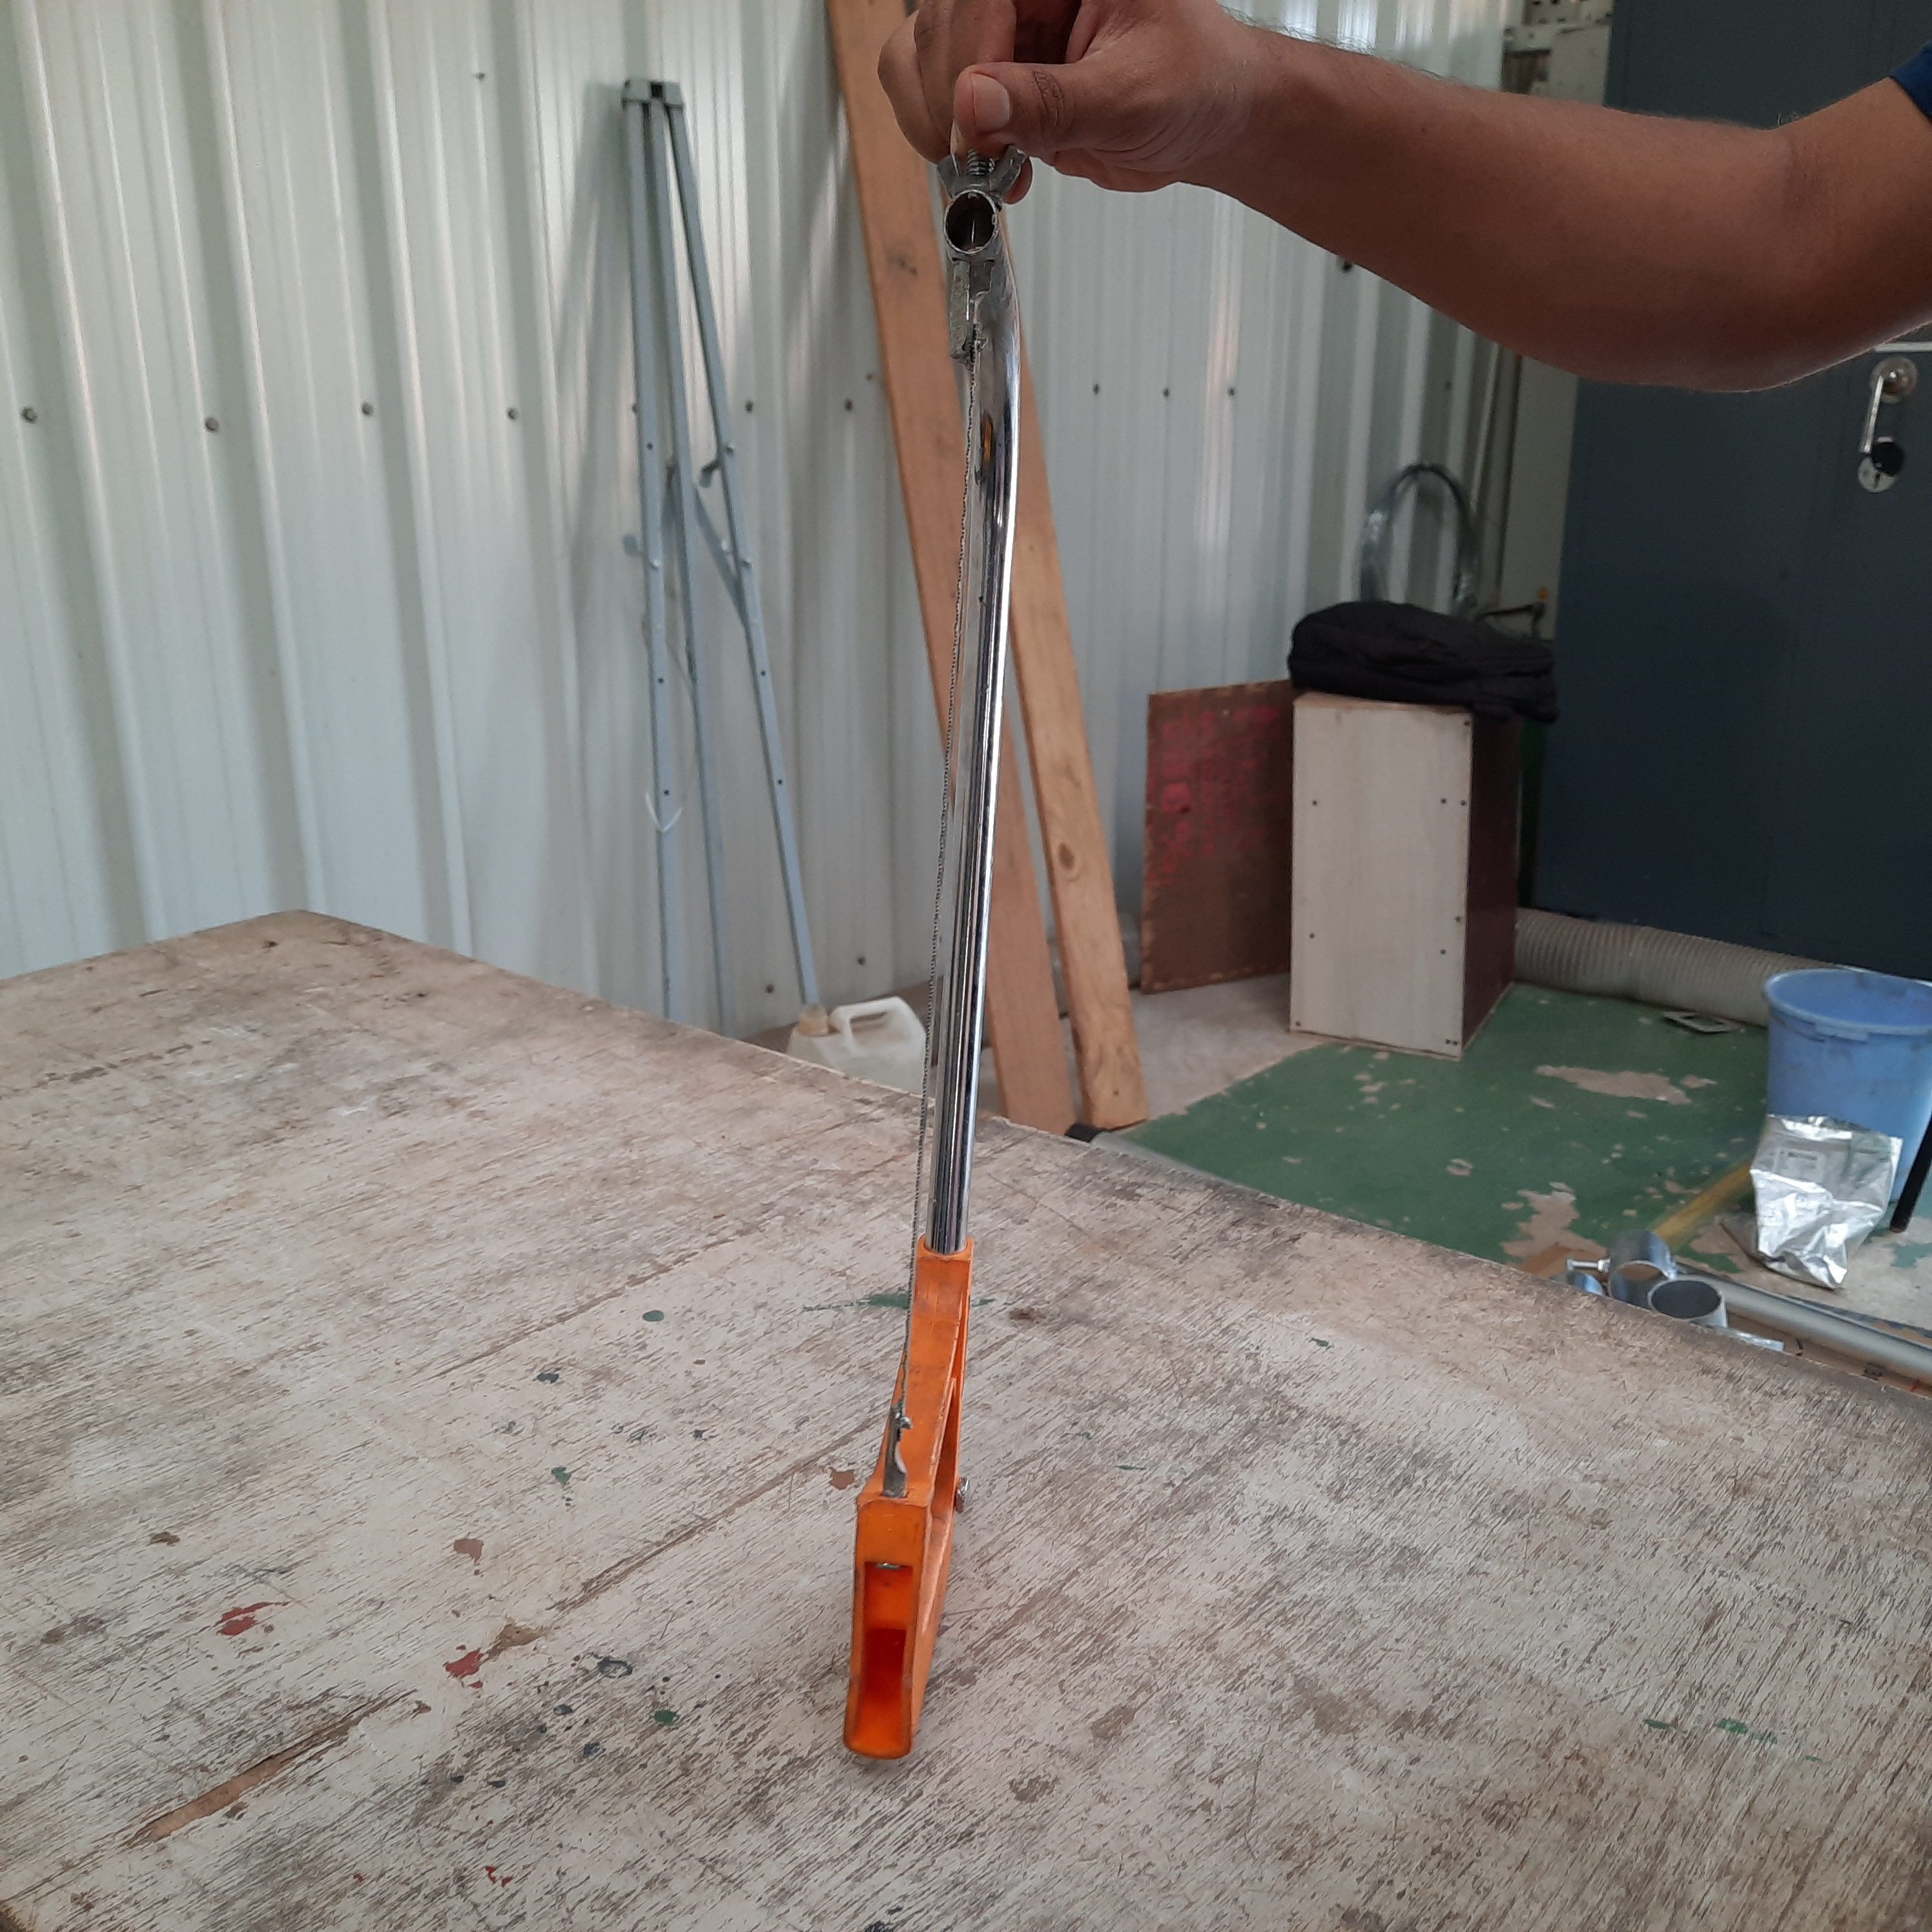Hexaframe: (819, 124, 1088, 1796)
